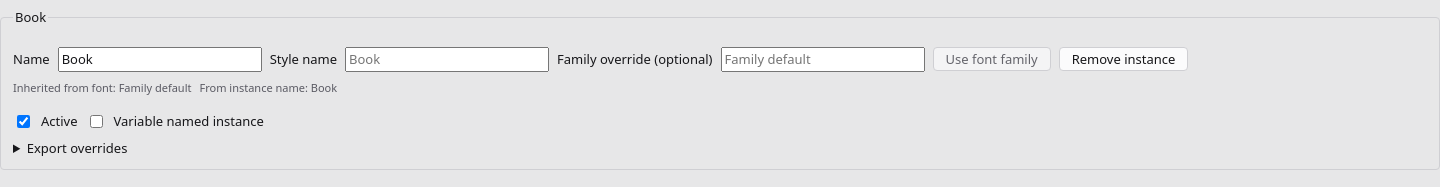
Test case: shows the effective inherited family and resets an export override
This screenshot has width=1440, height=187.
Expected: the text "Inherited from font: Family default" is shown, [13,80,192,96]
Expected: the text "From instance name: Book" is shown, [200,80,337,96]
Type "Export Family" into the field labelled "Family override (optional)". click: (822, 59)
box: [720,47,924,72]
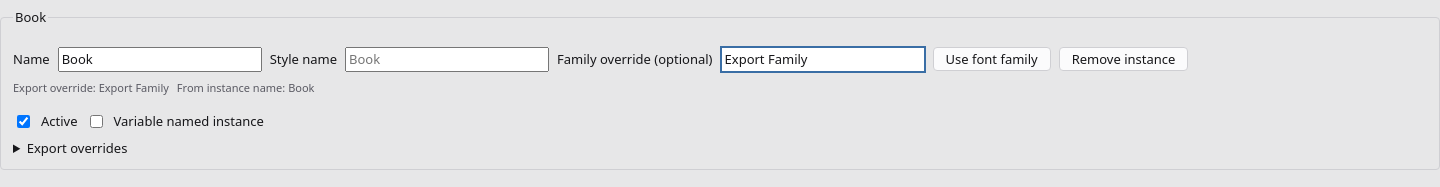
Expected: the text "Export override: Export Family" is shown, [13,80,169,96]
Click the button "Use font family". click: (992, 59)
box: [932,47,1051,71]
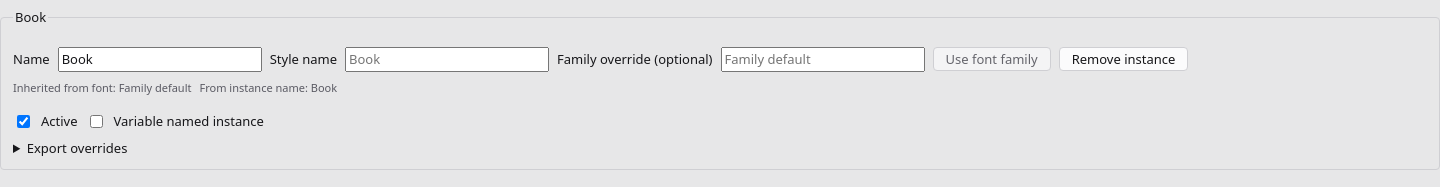
Expected: the field labelled "Family override (optional)" is empty, [720,47,924,72]
Expected: the text "Inherited from font: Family default" is shown, [13,80,192,96]
